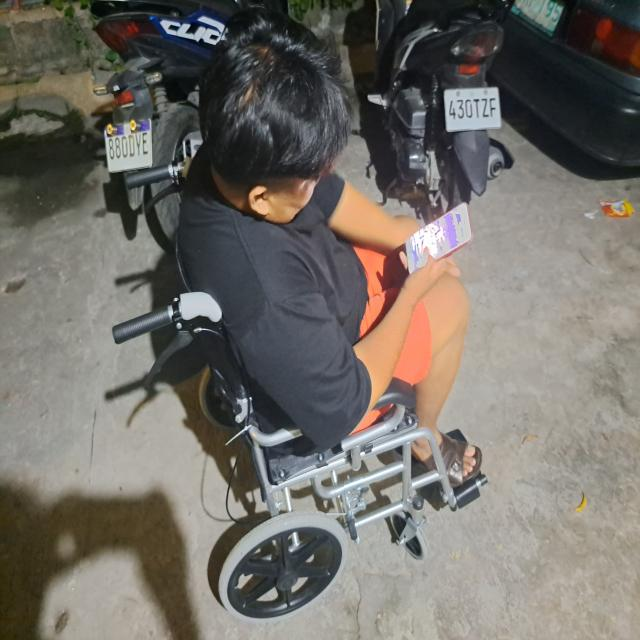wheelchairs: (118, 165, 500, 626)
